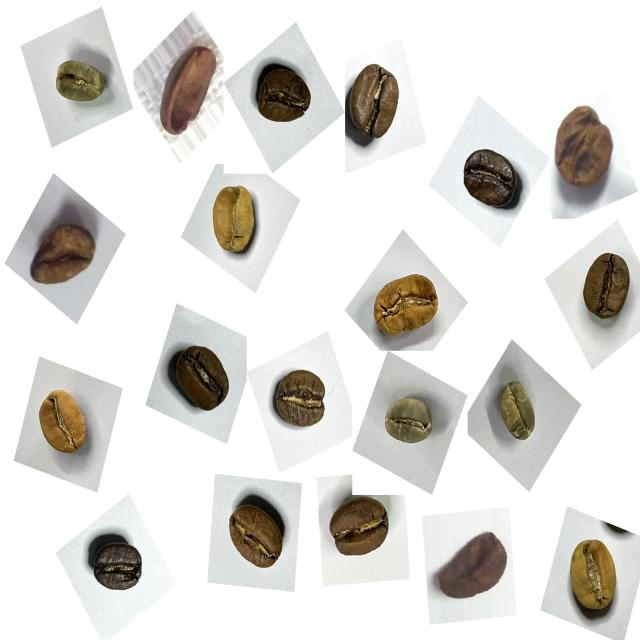bad: (544, 94, 624, 202), (433, 522, 516, 616), (156, 37, 226, 145), (24, 205, 104, 297)
dark: (457, 138, 529, 222), (85, 526, 154, 608)
green: (376, 385, 445, 461), (487, 374, 549, 456), (45, 49, 113, 120)
light: (556, 528, 631, 628), (366, 263, 449, 350), (200, 175, 270, 266), (30, 379, 100, 468)
medium: (338, 54, 412, 154), (218, 490, 296, 583), (164, 334, 241, 426), (249, 57, 322, 139), (572, 243, 640, 331), (266, 358, 337, 441), (322, 495, 396, 568)
